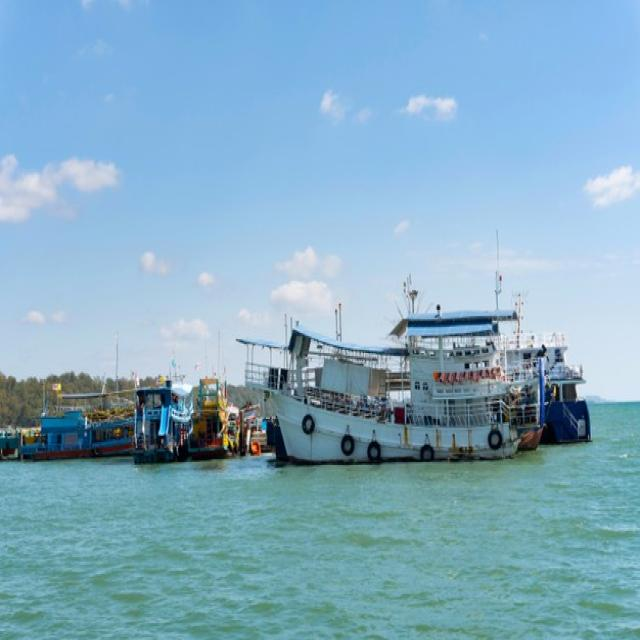fishing boat: (237, 292, 539, 467)
